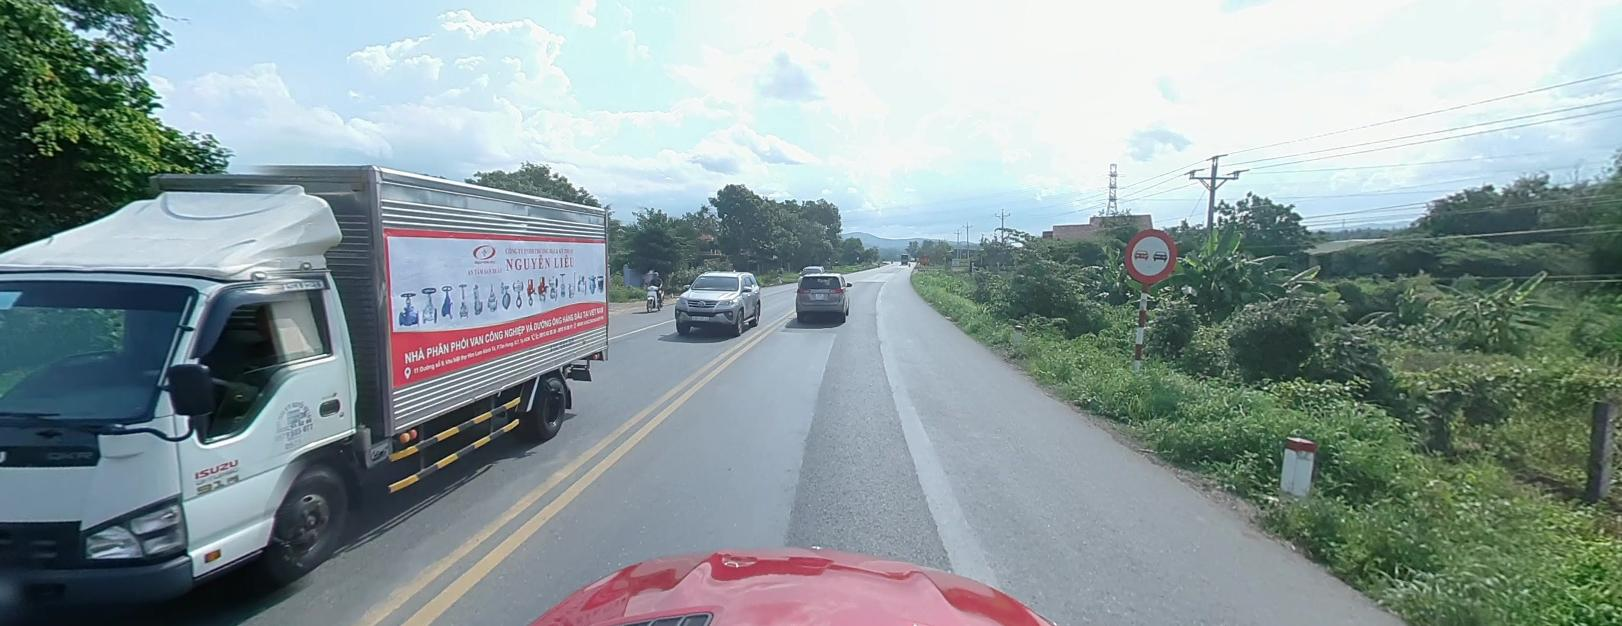Cam con lai: (1121, 223, 1177, 282)
Nguy hiem: (919, 254, 928, 263)
